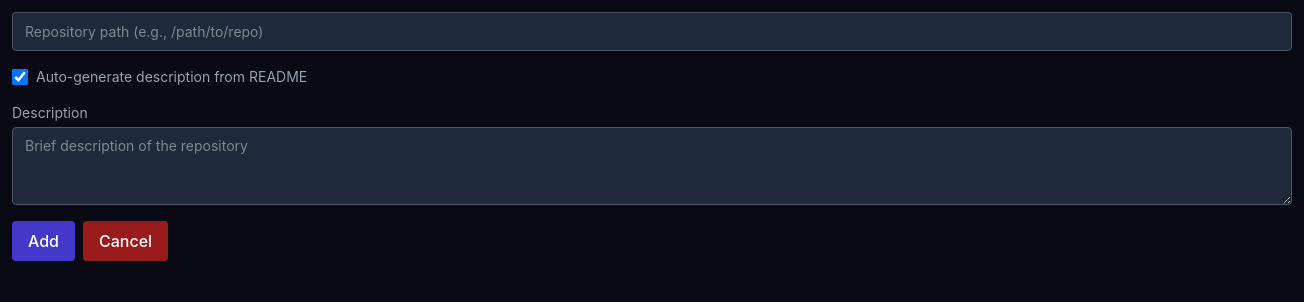
RegisterExistingPathForm › blocks submit when path is empty
What coordinates should you click on to do the following:
click the button "Add"
I would click on:
 (44, 241)
Its box is top-left (12, 221), bottom-right (75, 261).
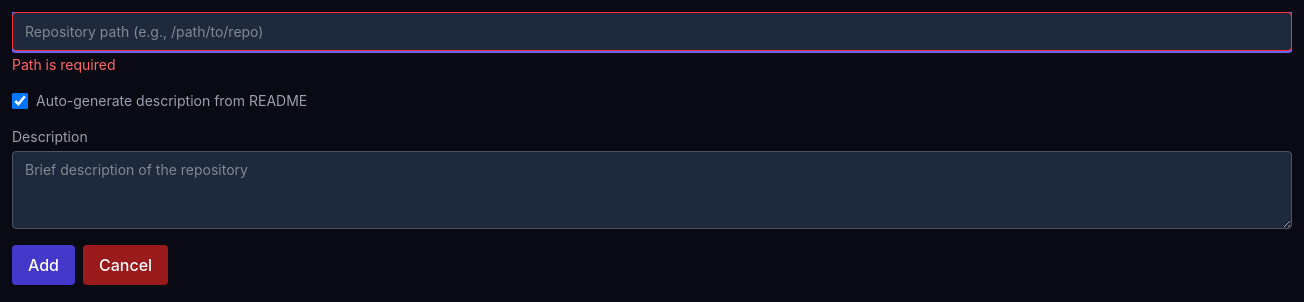
Now the text "Path is required" is shown, box top-left (12, 56), bottom-right (116, 73)
